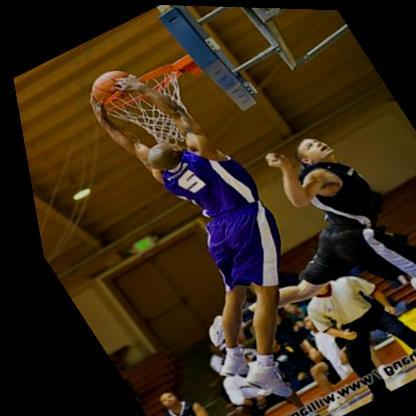basketball: (76, 60, 149, 124)
